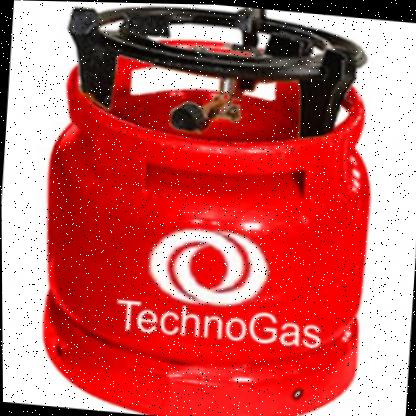gas-tank: (0, 6, 403, 415)
